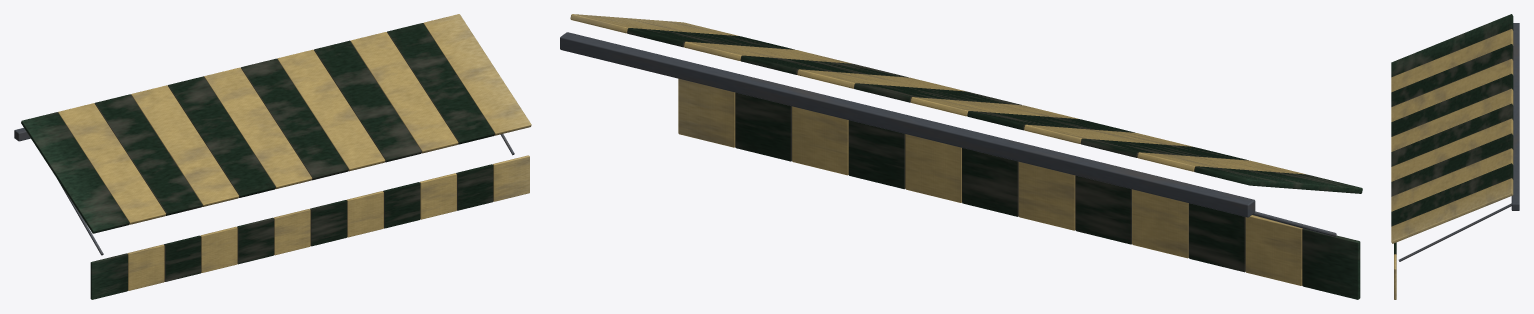
File: sklep_markiza_b.glb
3 renders of one model, left to right at view 1: azimuth 30°, elevation 25°; view 2: azimuth 150°, elevation 25°; view 3: azimuth 270°, elevation 25°, orthographic. The views are drawn at different scales.
Parts seen in each view (by area): view 1: Markiza; view 2: Markiza; view 3: Markiza.
Boxes of the visible parts, x1,y1,x2,y2 form: Markiza: (14, 14, 531, 299); Markiza: (560, 14, 1362, 299); Markiza: (1391, 14, 1519, 299).
Size of the model in its own units: 3.24 by 0.8932 by 0.9702.
1 material, 1 textured.
